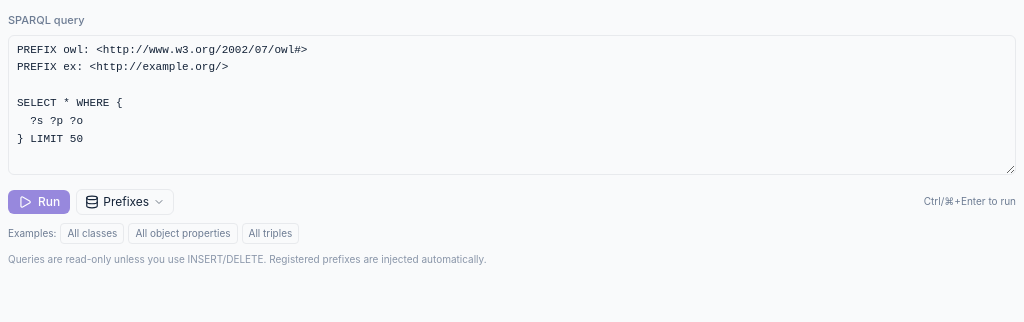
Test: SparqlPanel › shows a readable error message and toast when the query throws
Click the button with aria-label "Run SPARQL query" at (39, 202), box [8, 190, 70, 214]
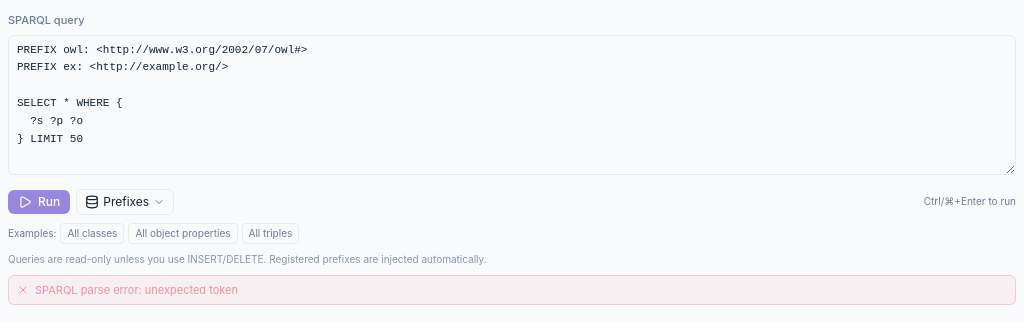
Check: the message "SPARQL parse error: unexpected token" is shown, box [8, 274, 1016, 305]
Check: the text "SPARQL parse error: unexpected token" is shown, box [35, 282, 238, 298]
